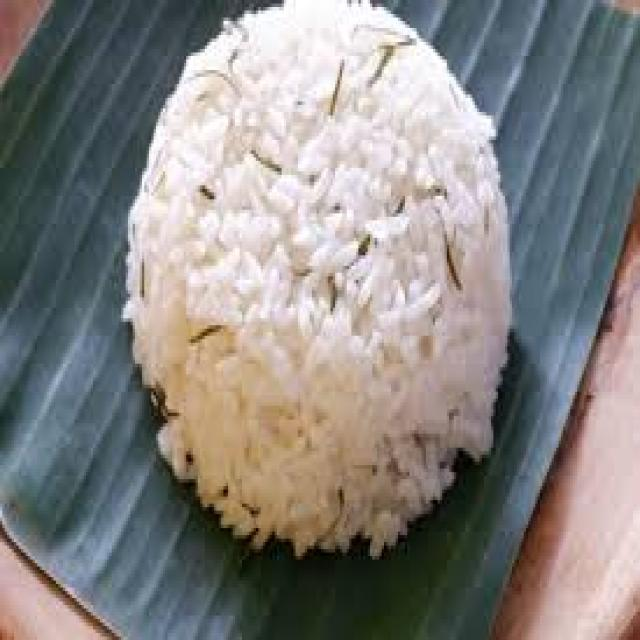nasi: (117, 0, 524, 559)
